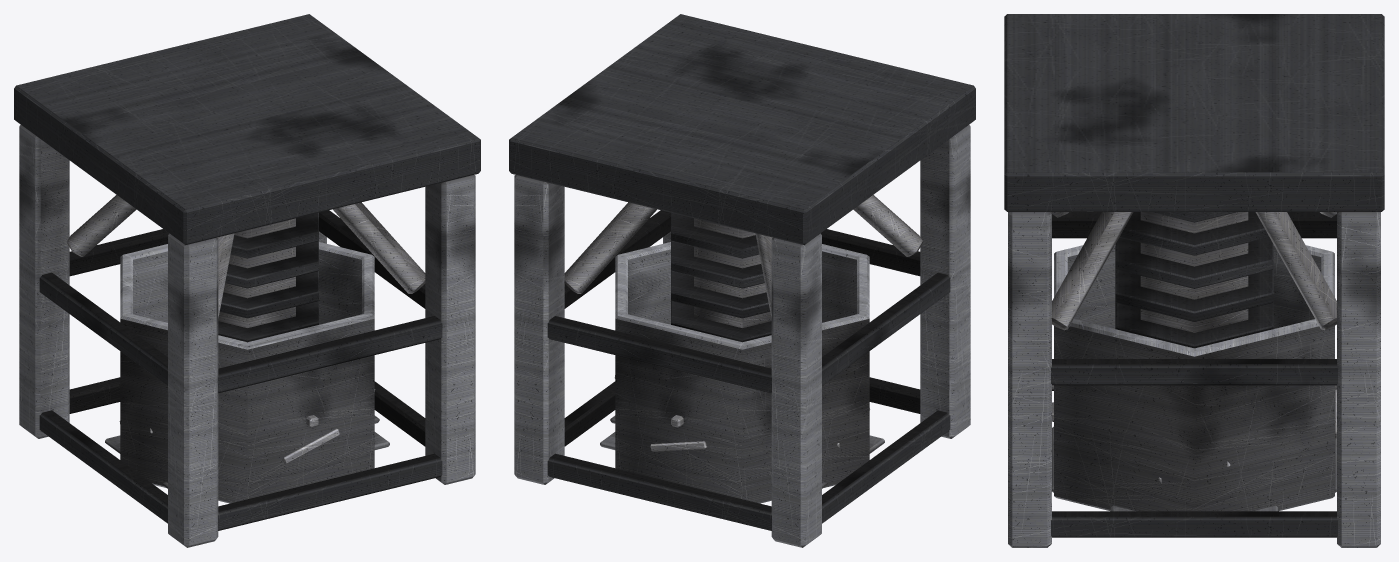
Rendered from R4M_HoverEngine_LOD1.glb.
3 renders of one model, left to right at view 1: azimuth 30°, elevation 25°; view 2: azimuth 150°, elevation 25°; view 3: azimuth 270°, elevation 25°, orthographic. The views are drawn at different scales.
Visible parts, largest first — view 1: R4M_HoverEngine_LOD1; view 2: R4M_HoverEngine_LOD1; view 3: R4M_HoverEngine_LOD1.
Part boxes in pixels (<box>): R4M_HoverEngine_LOD1: <box>14,14,480,547</box>; R4M_HoverEngine_LOD1: <box>509,14,975,547</box>; R4M_HoverEngine_LOD1: <box>1004,14,1384,547</box>.
Size of the model in its own units: 0.52 by 0.577 by 0.52.
Materials: 3 (3 with a texture image).
